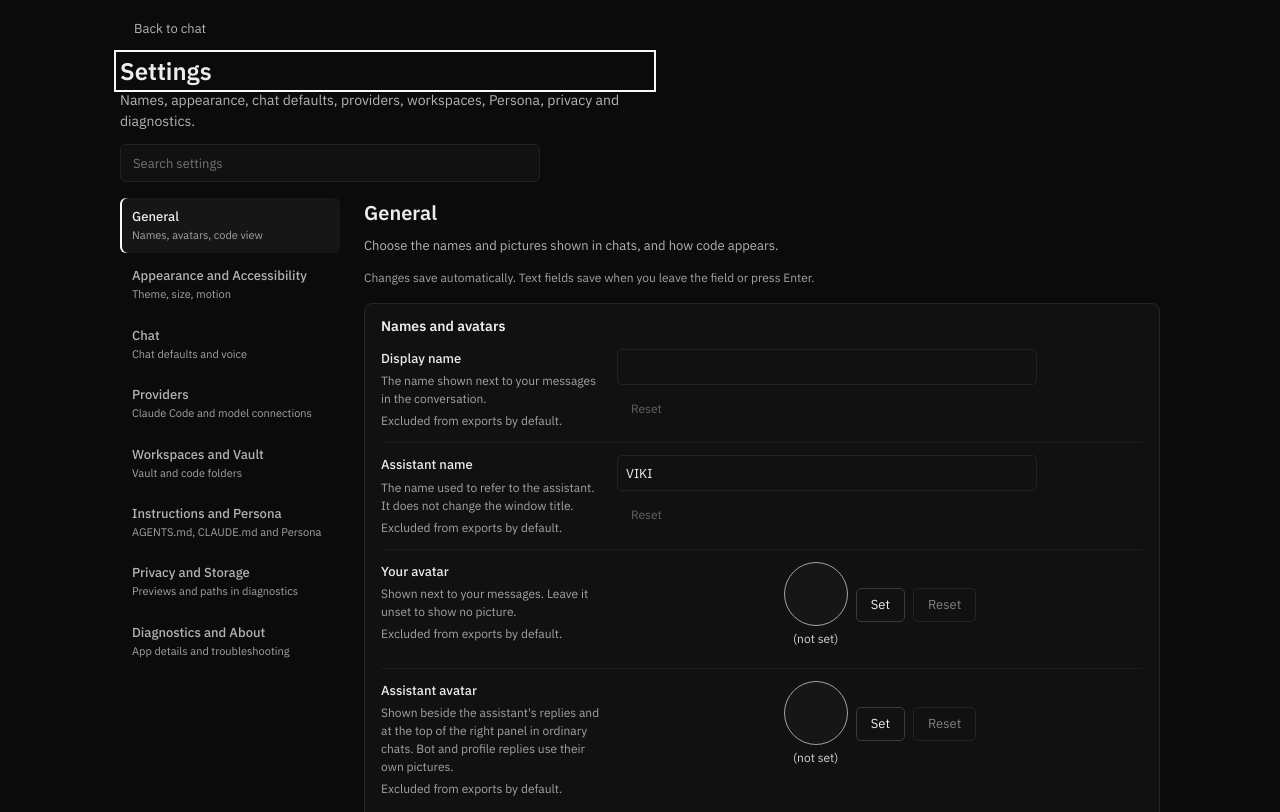
Test: opening a page from the search result clears the query and navigates
Type "density" into the search field labelled "Search settings" at [330, 163], box [120,144,540,182]
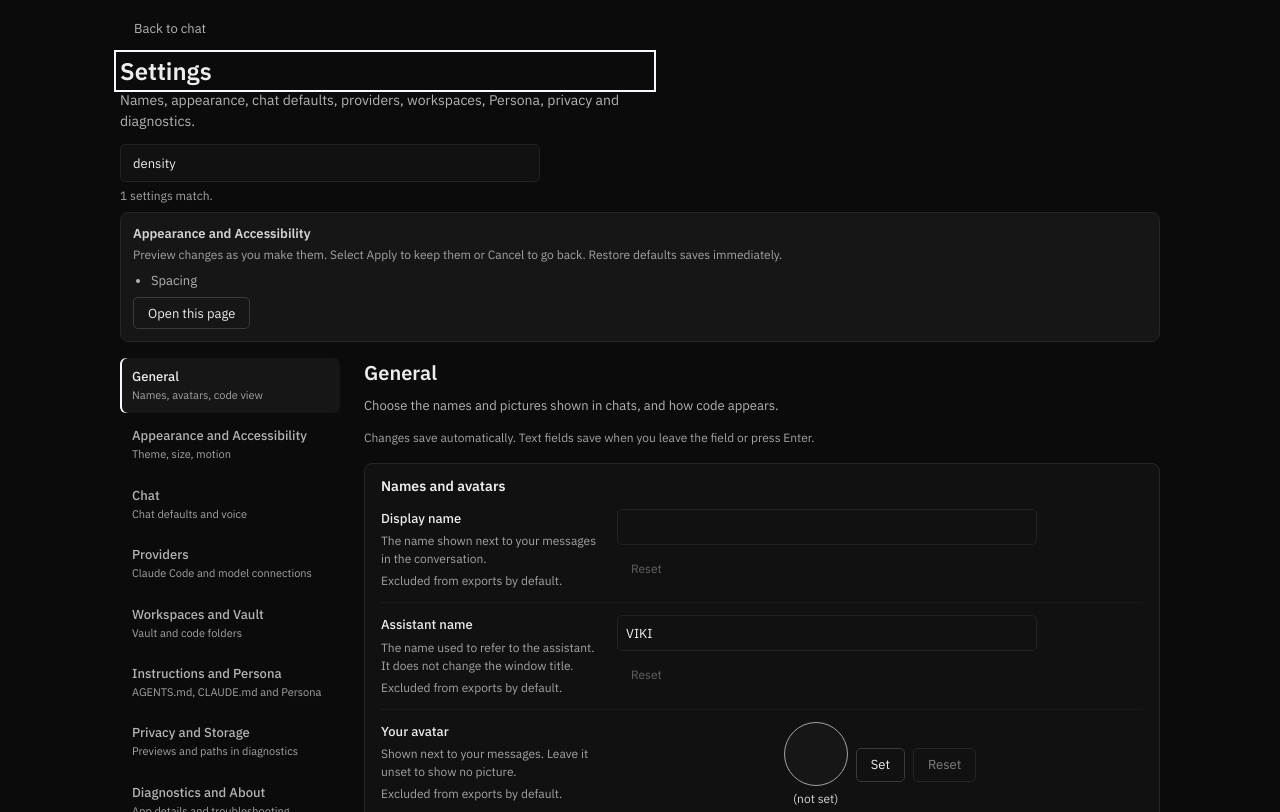
Check: the element with class "settings-search-results" is shown, box [120,212,1160,342]
Click the button "Open this page" at [192, 313], box [133,297,250,329]
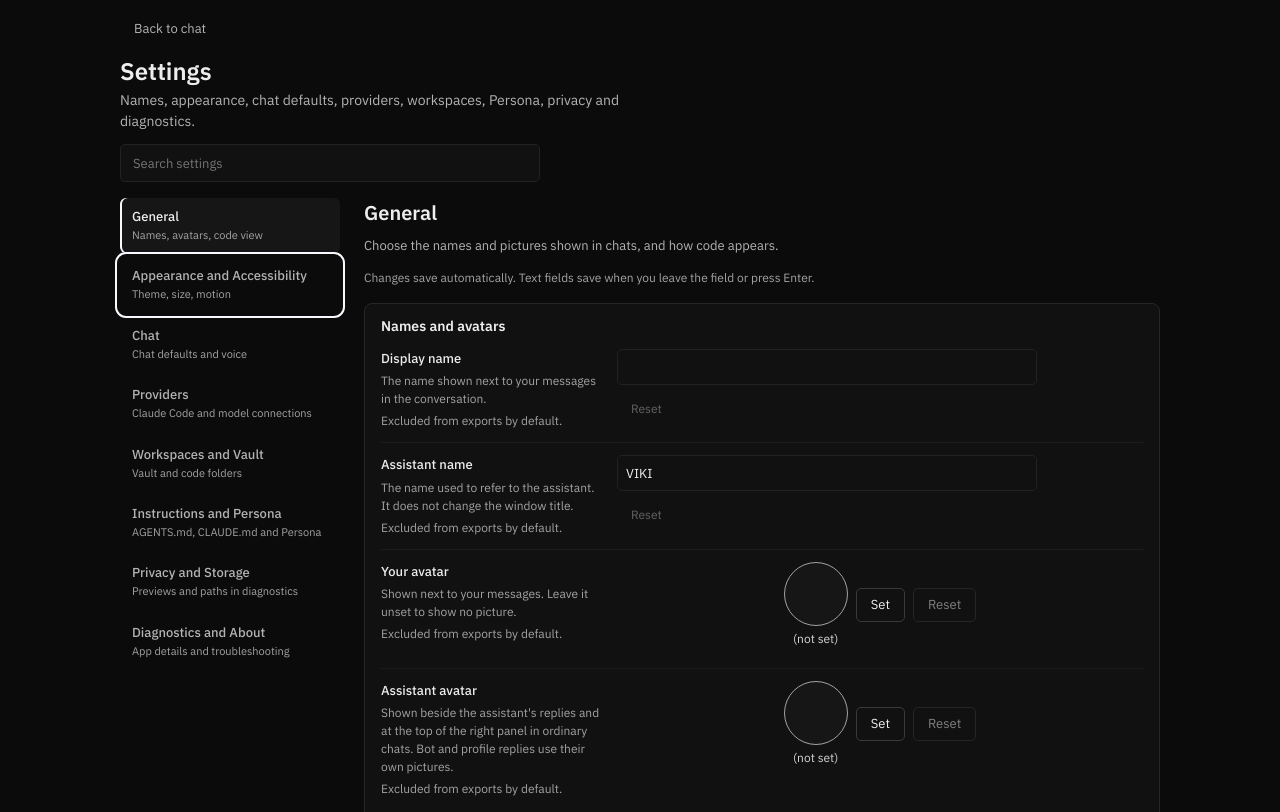
Check: the search field labelled "Search settings" is empty, box [120,144,540,182]
